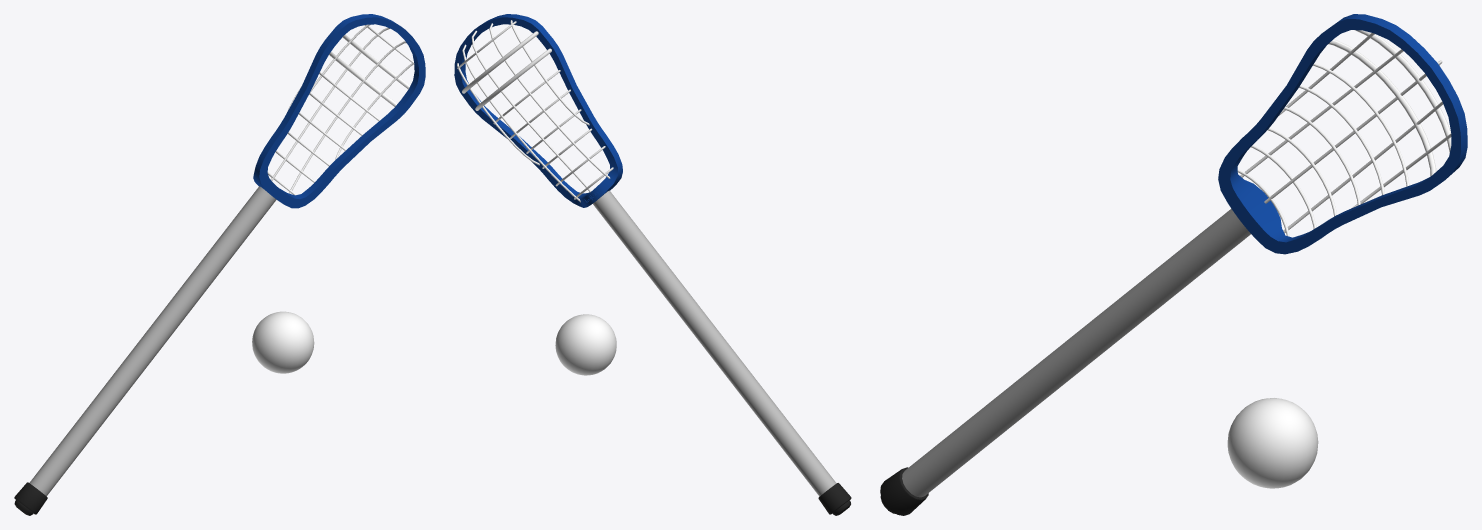
The model's file is lacrosse.glb.
3 views of the same model, side by side, from view 1: azimuth 30°, elevation 25°; view 2: azimuth 150°, elevation 25°; view 3: azimuth 330°, elevation 25° (orthographic). The views are drawn at different scales.
Parts seen in each view (by area): view 1: Cylinder.475; view 2: Cylinder.475; view 3: Cylinder.475.
Boxes of the visible parts, x1,y1,x2,y2 form: Cylinder.475: (14,14,425,515); Cylinder.475: (454,14,851,515); Cylinder.475: (880,14,1467,515).
Bounding box in the file's own units: 2.28 × 2.28 × 0.3061.
Materials: 1 (1 with a texture image).
